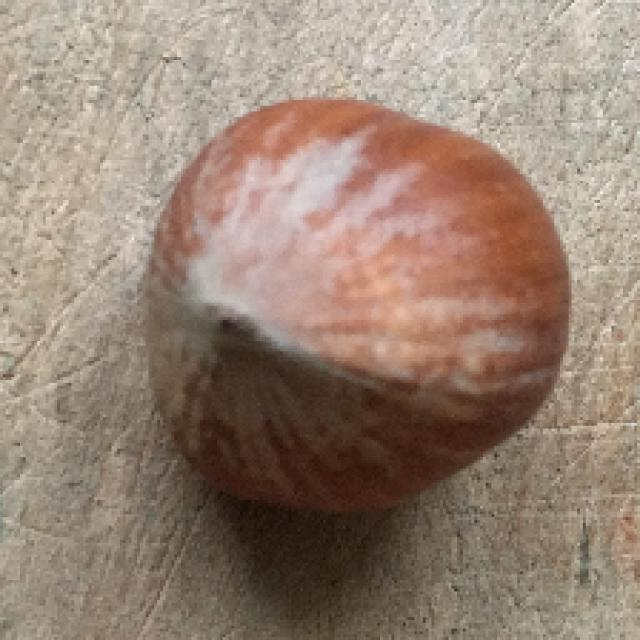qualityHazelnut: (136, 95, 572, 538)
